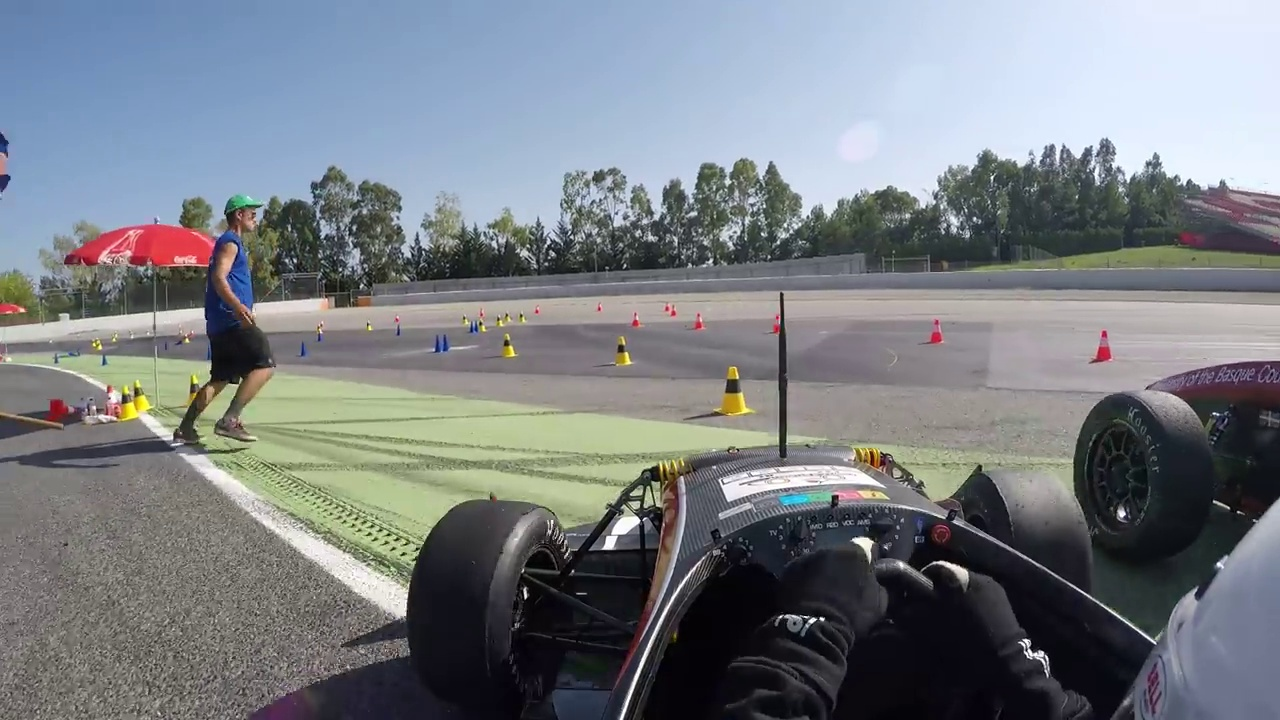Cone: (716, 364, 750, 418), (117, 382, 138, 421), (1093, 326, 1113, 362), (613, 332, 631, 368), (499, 332, 517, 359), (929, 314, 945, 344)
